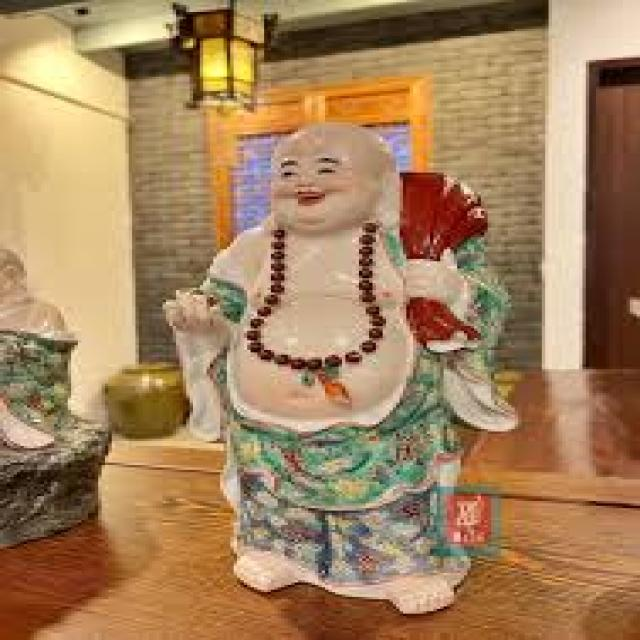Smiling Buddha: (164, 120, 519, 613)
